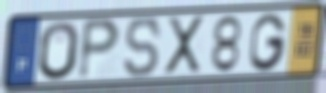8: (211, 14, 243, 74)
G: (248, 11, 289, 73)
O: (38, 20, 81, 82)
P: (75, 16, 123, 82)
S: (123, 15, 163, 80)
X: (164, 14, 206, 77)
